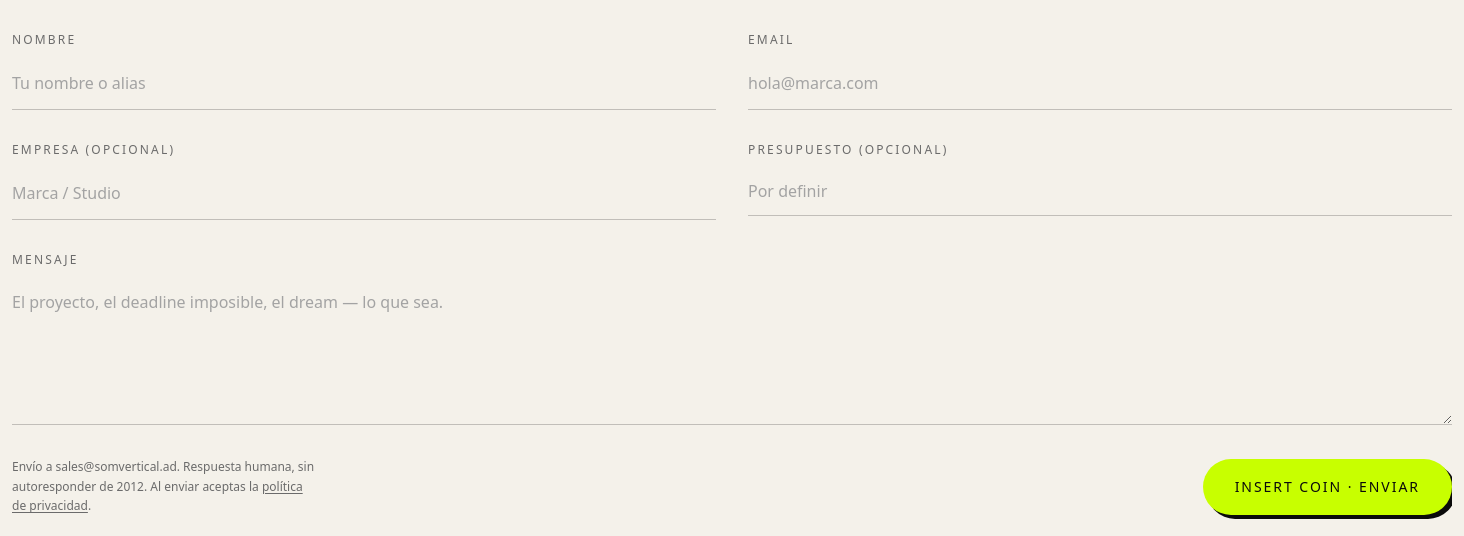
Test: ContactForm › happy path: envía el payload y muestra confirmación
The width and height of the screenshot is (1464, 536).
Type "Ada Lovelace" into the field labelled "Nombre" at (364,83), box [12,57,716,110]
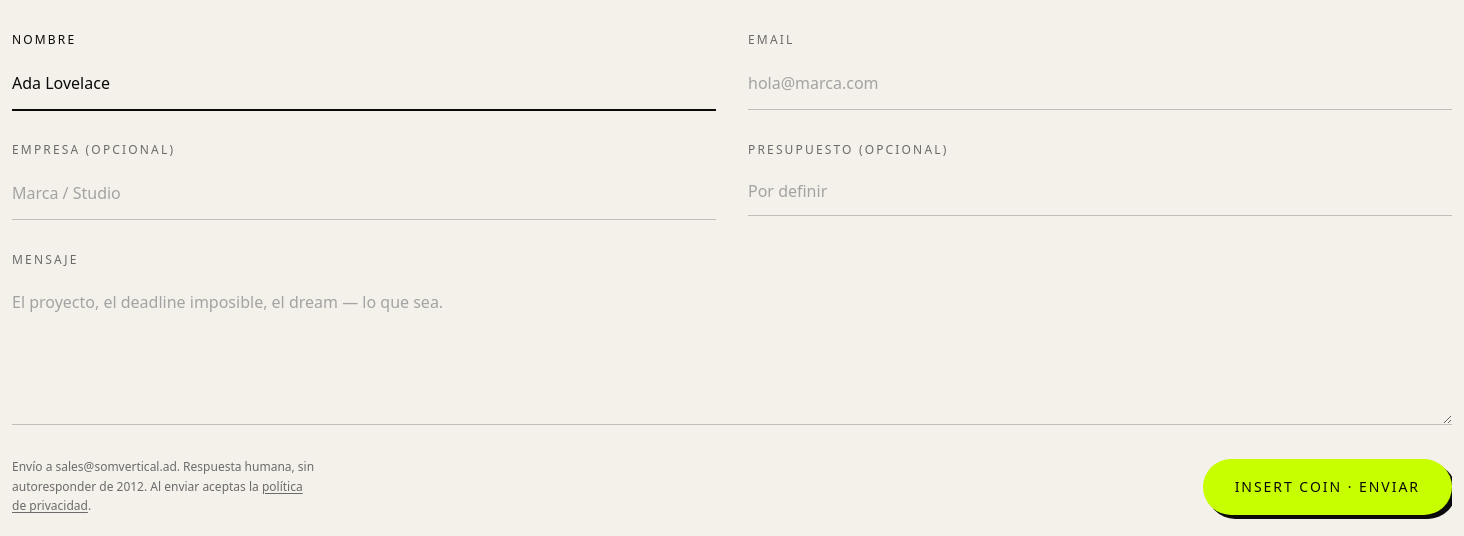
Type "ada@example.com" into the field labelled "Email" at (1100,83), box [748,57,1452,110]
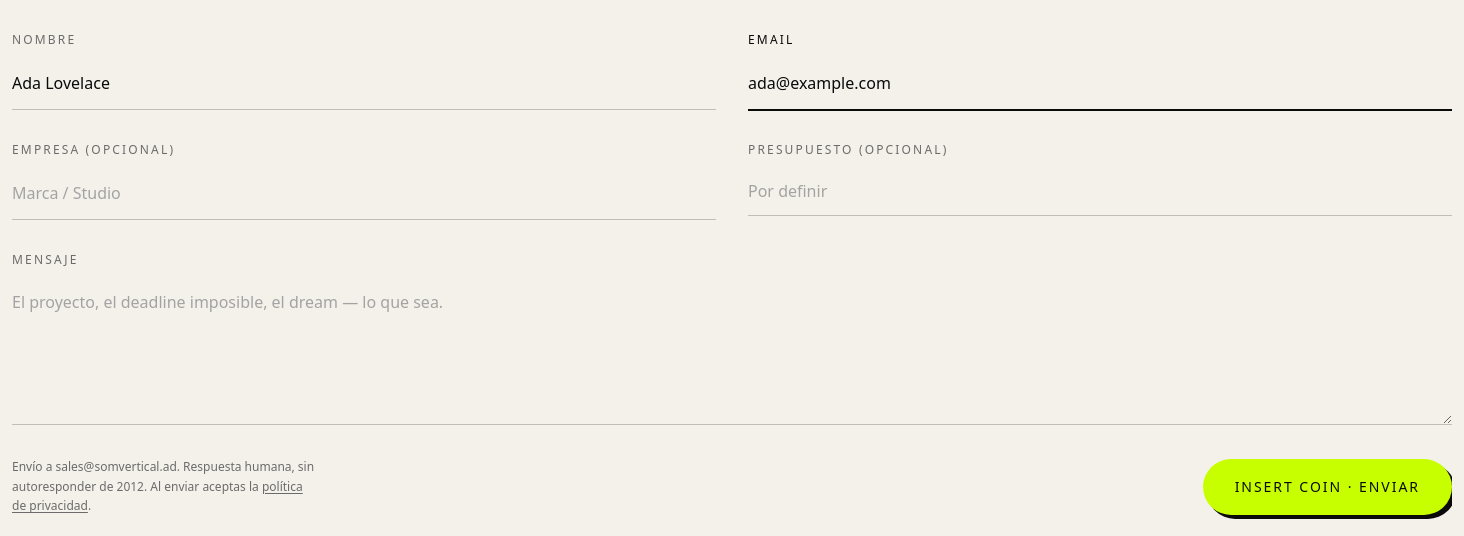
Type "Queremos una marca que no parezca plantilla." into the text box labelled "Mensaje" at (732,351), box [12,276,1452,425]
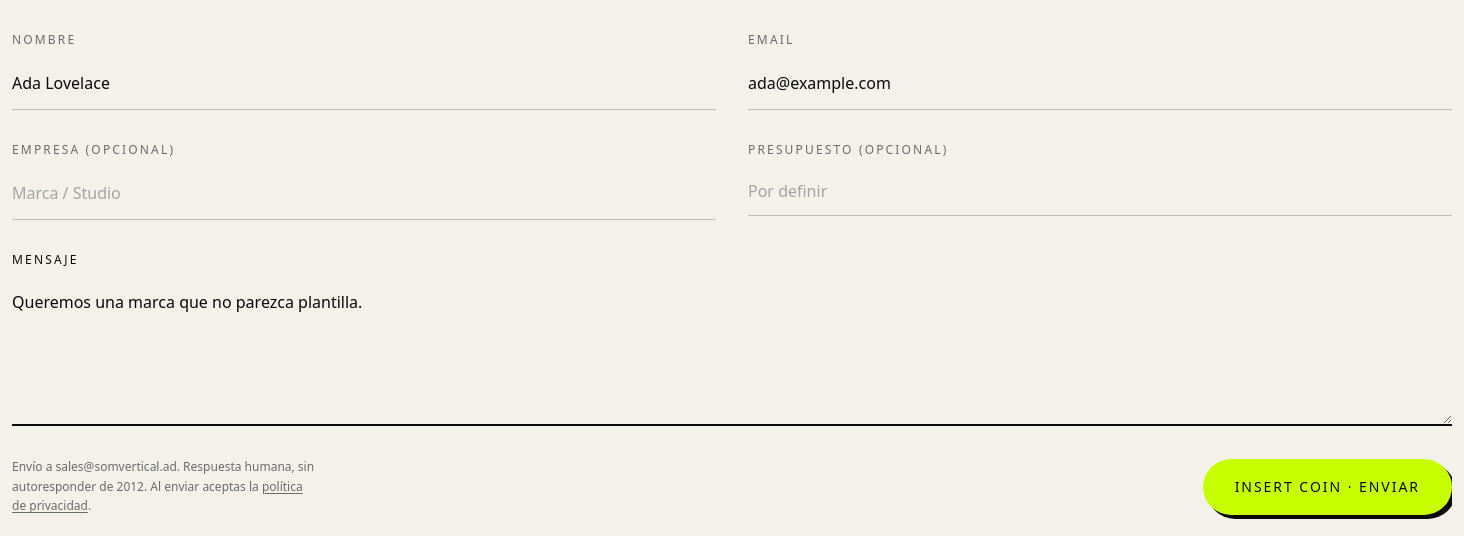
Click the button "Insert coin · Enviar" at (1327,487), box [1203,459,1452,515]
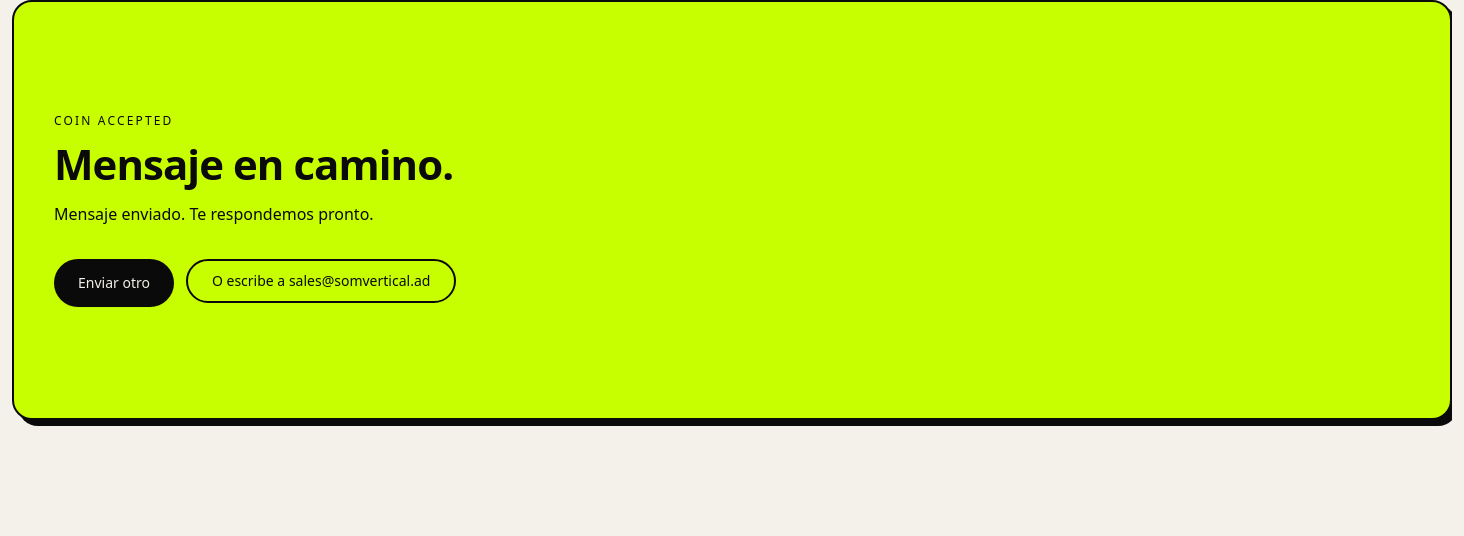
Result: the message shows "Mensaje enviado" at [54,203,374,225]
